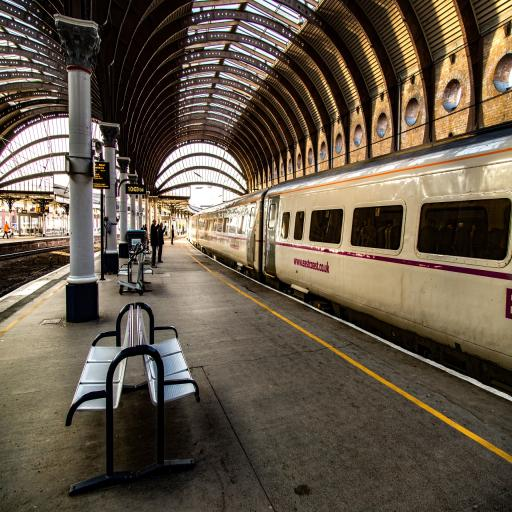platform_edge: (214, 270, 512, 471)
